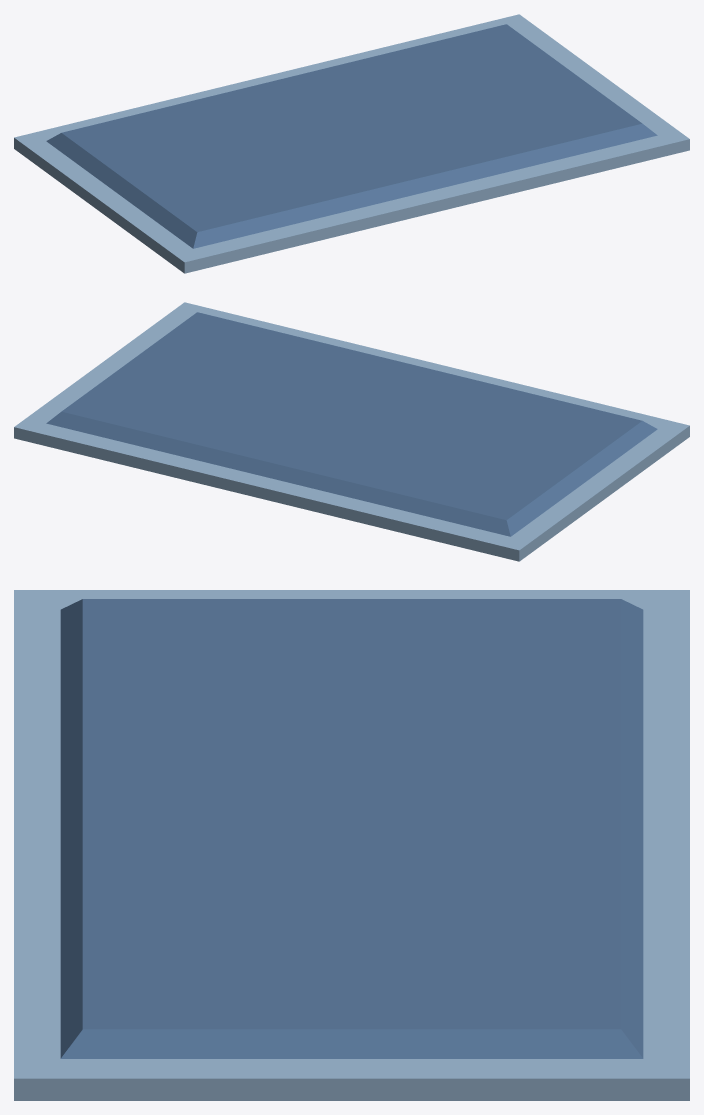
3 renders of one model, top to bottom at view 1: azimuth 30°, elevation 25°; view 2: azimuth 150°, elevation 25°; view 3: azimuth 270°, elevation 25°, orthographic. The views are drawn at different scales.
Parts seen in each view (by area): view 1: Base; view 2: Base; view 3: Base.
Boxes of the visible parts, x1,y1,x2,y2 form: Base: (14, 14, 689, 273); Base: (14, 302, 689, 561); Base: (14, 590, 689, 1100).
Bounding box in the file's own units: 52.13 × 2.11 × 30.48.
Materials: 1 (1 with a texture image).
